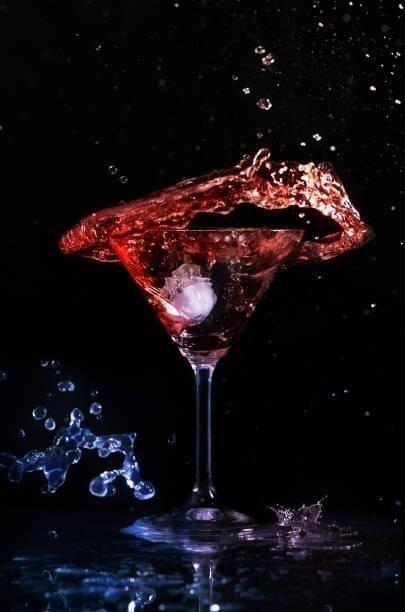glass-wine: (103, 212, 306, 540)
